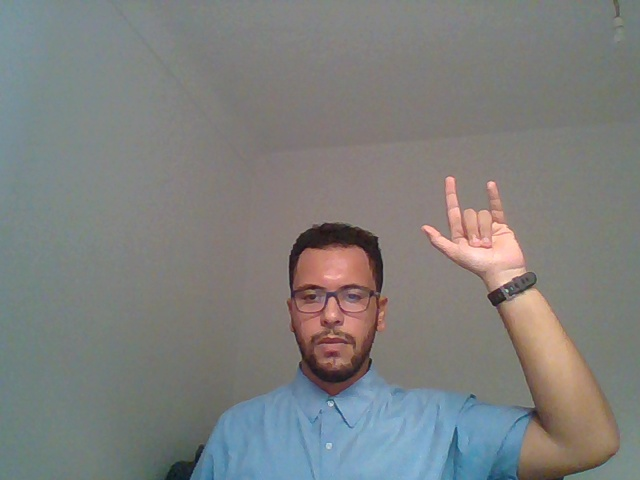iloveyou: (412, 155, 591, 435)
